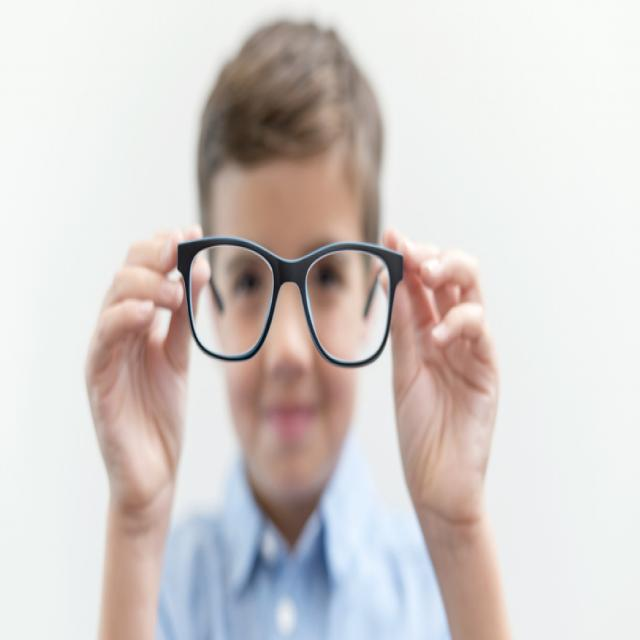Glasses: (175, 232, 406, 372)
